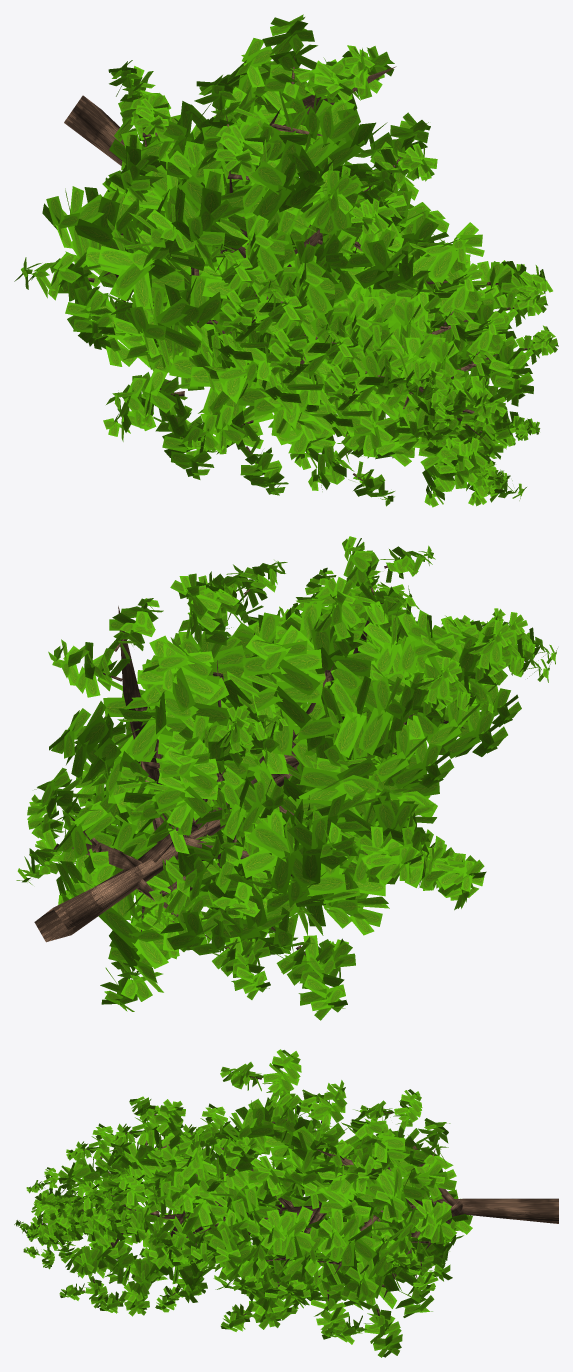
Rendered from apple_tree.obj.
3 views of the same model, one above another, from view 1: azimuth 30°, elevation 25°; view 2: azimuth 150°, elevation 25°; view 3: azimuth 270°, elevation 25° (orthographic). The views are drawn at different scales.
Visible parts, largest first — view 1: AppleTree_lod2_1, AppleTree_lod2_0; view 2: AppleTree_lod2_1, AppleTree_lod2_0; view 3: AppleTree_lod2_1, AppleTree_lod2_0.
Part boxes in pixels (left/top/right/bottom): AppleTree_lod2_1: left=14, top=14, right=558, bottom=507; AppleTree_lod2_0: left=64, top=56, right=530, bottom=489; AppleTree_lod2_1: left=16, top=536, right=557, bottom=1020; AppleTree_lod2_0: left=34, top=565, right=536, bottom=971; AppleTree_lod2_1: left=14, top=1049, right=472, bottom=1357; AppleTree_lod2_0: left=39, top=1075, right=558, bottom=1327.
Size of the model in its own units: 1.23 by 1.23 by 2.28.
Materials: 2 (2 with a texture image).
